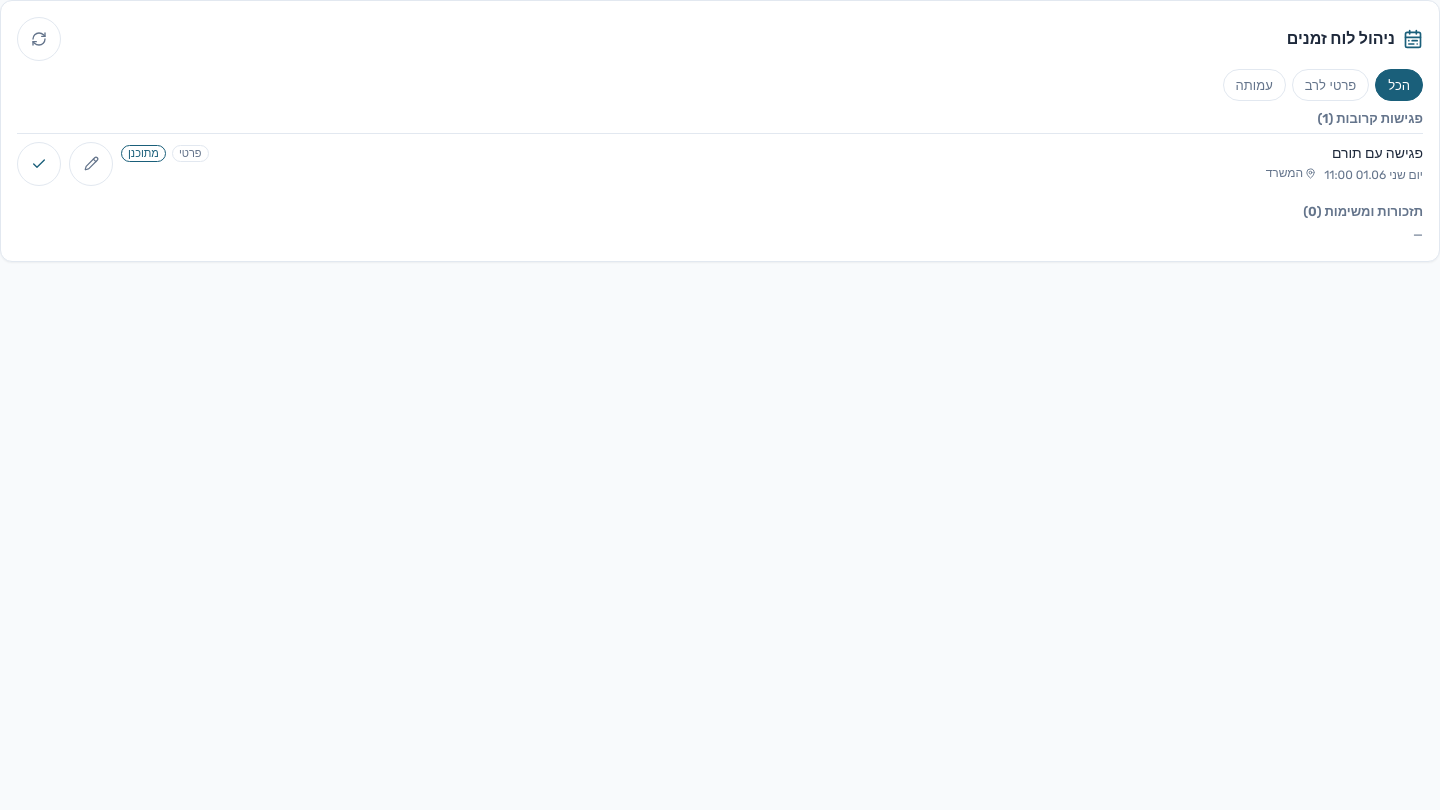
Test: RabbiScheduleManager › opens the meeting edit form prefilled when the row edit button is clicked
Step 1. Click the button with test id "rabbi-sched-edit" → (91, 164), box x1=69 y1=142 x2=113 y2=186
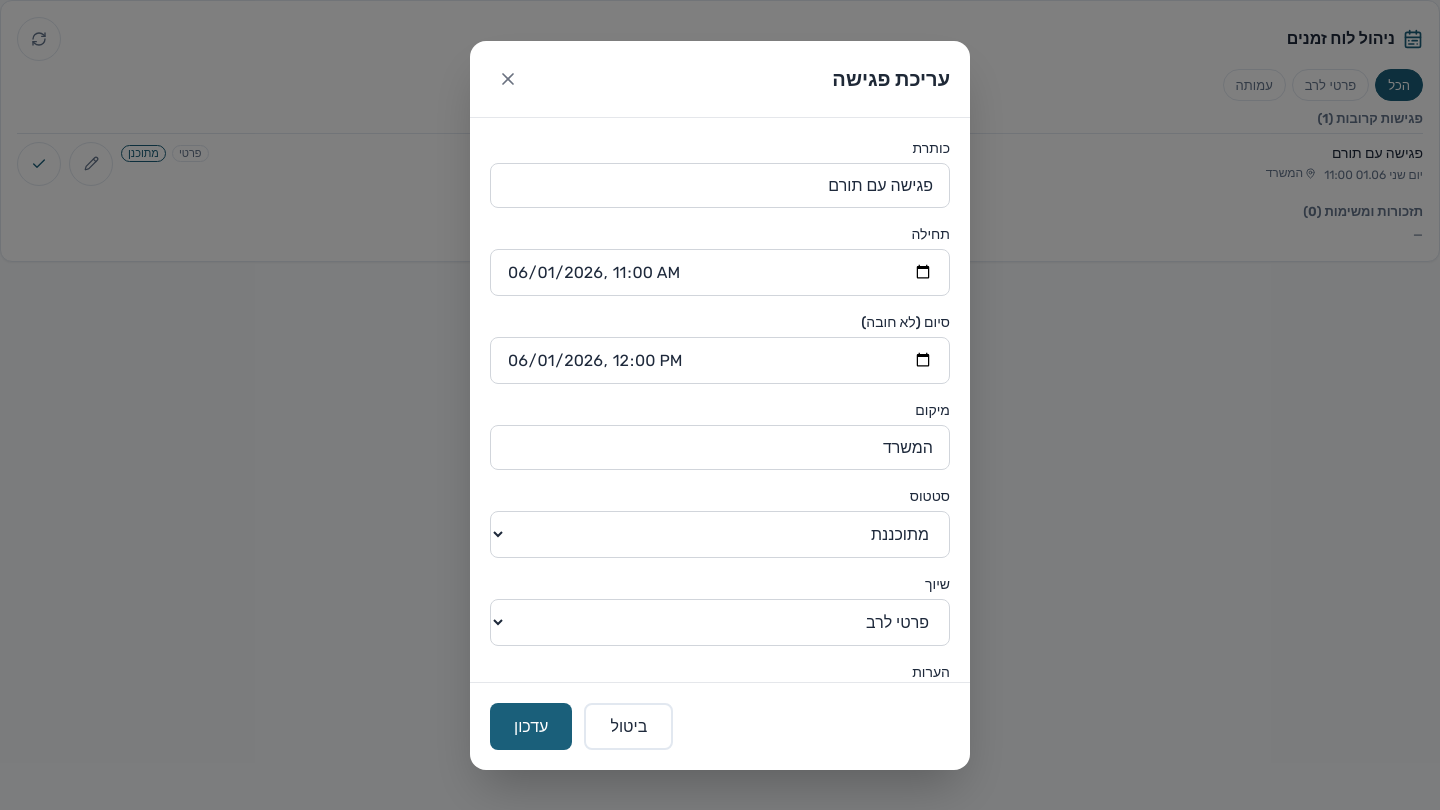
Result: the heading "עריכת פגישה" is shown at x1=832 y1=64 x2=950 y2=94
Result: the field with placeholder "עם מי / על מה" below "כותרת" holds "פגישה עם תורם" at x1=490 y1=162 x2=950 y2=208
